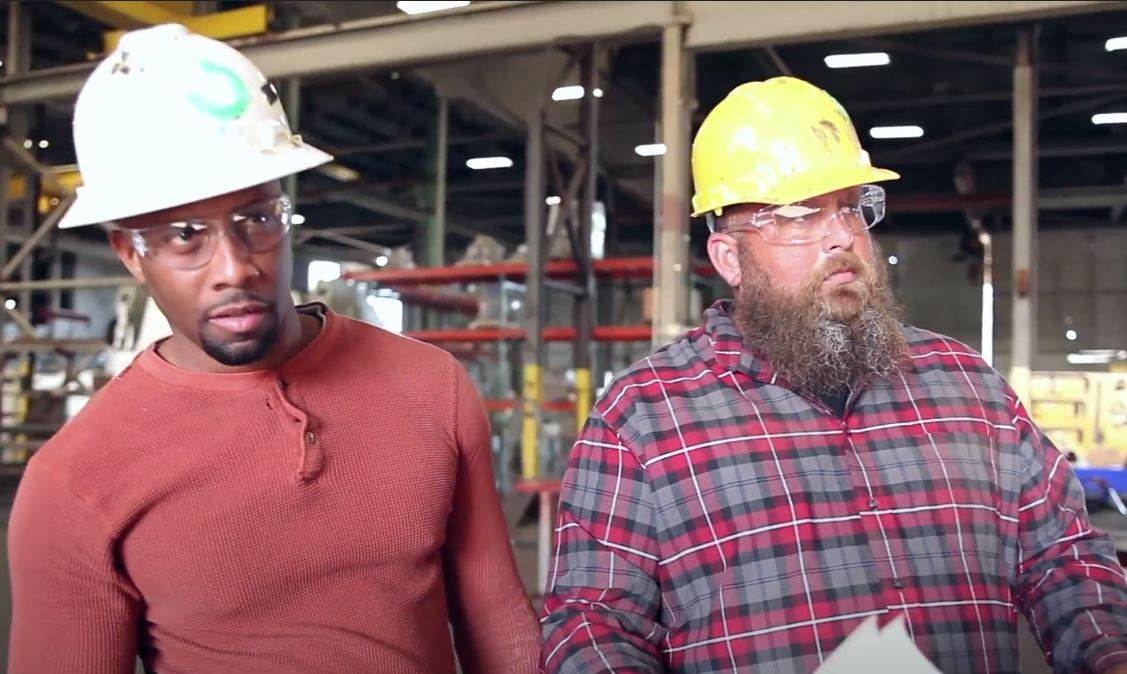Safety Helmet: (50, 12, 356, 366), (670, 54, 941, 429)
